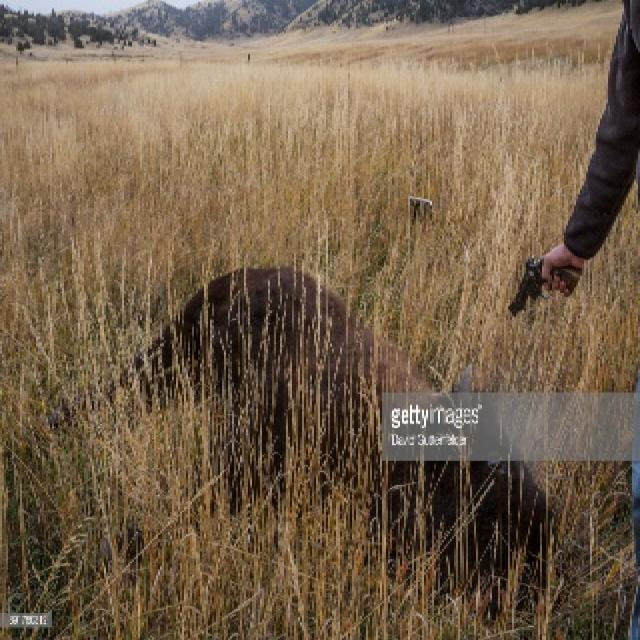weapon: (504, 247, 582, 320)
